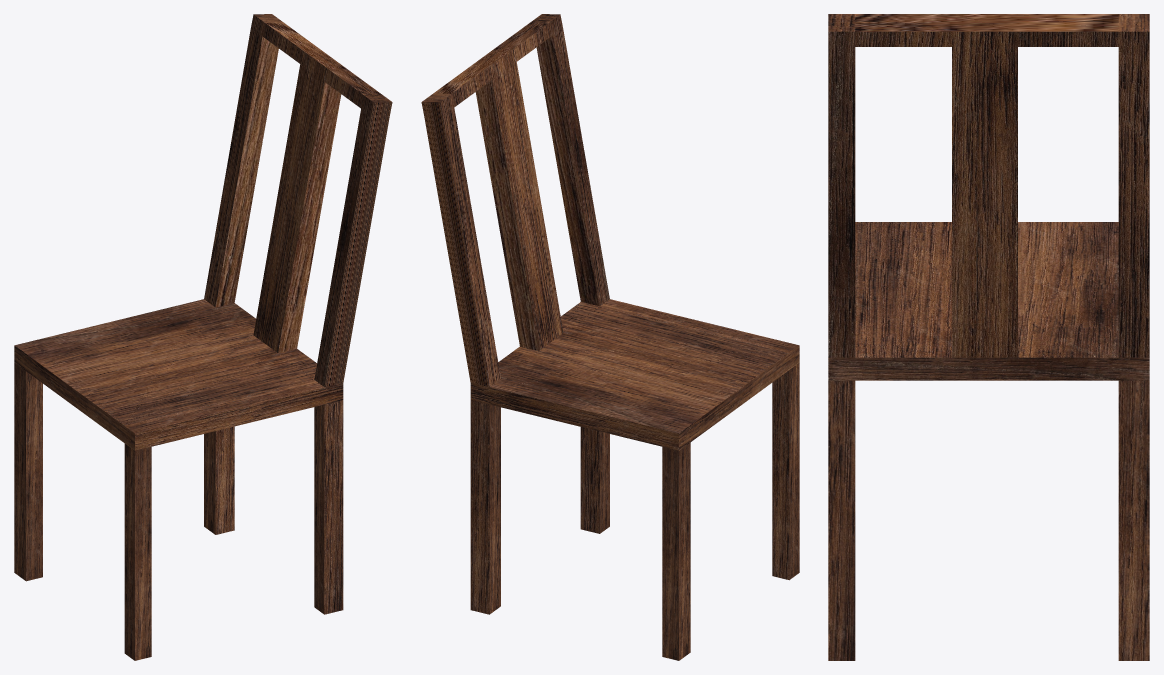
The model's file is Chair.fbx.
3 views of the same model, side by side, from view 1: azimuth 30°, elevation 25°; view 2: azimuth 150°, elevation 25°; view 3: azimuth 270°, elevation 25° (orthographic). The views are drawn at different scales.
Visible parts, largest first — view 1: Cube; view 2: Cube; view 3: Cube.
Boxes of the visible parts, bbox=[...] form: Cube: bbox=[14, 14, 392, 660]; Cube: bbox=[421, 14, 799, 660]; Cube: bbox=[828, 14, 1149, 660].
Bounding box in the file's own units: 247 × 458 × 200.
Materials: 1 (1 with a texture image).
